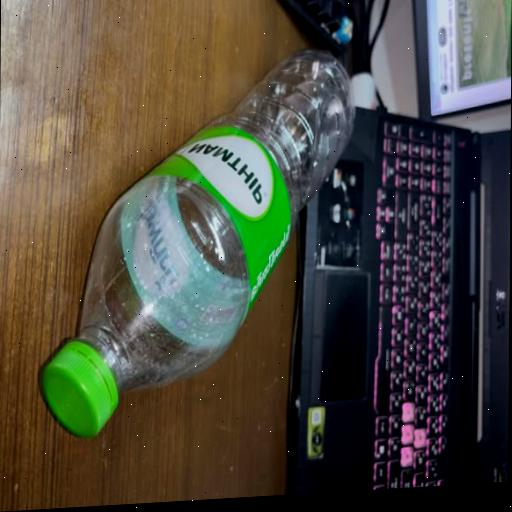bottle: (30, 31, 363, 449)
